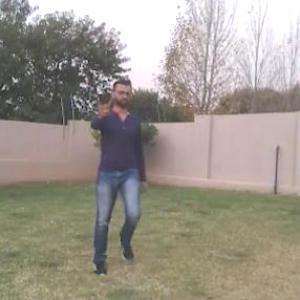takeoff-hand: (87, 89, 115, 124)
